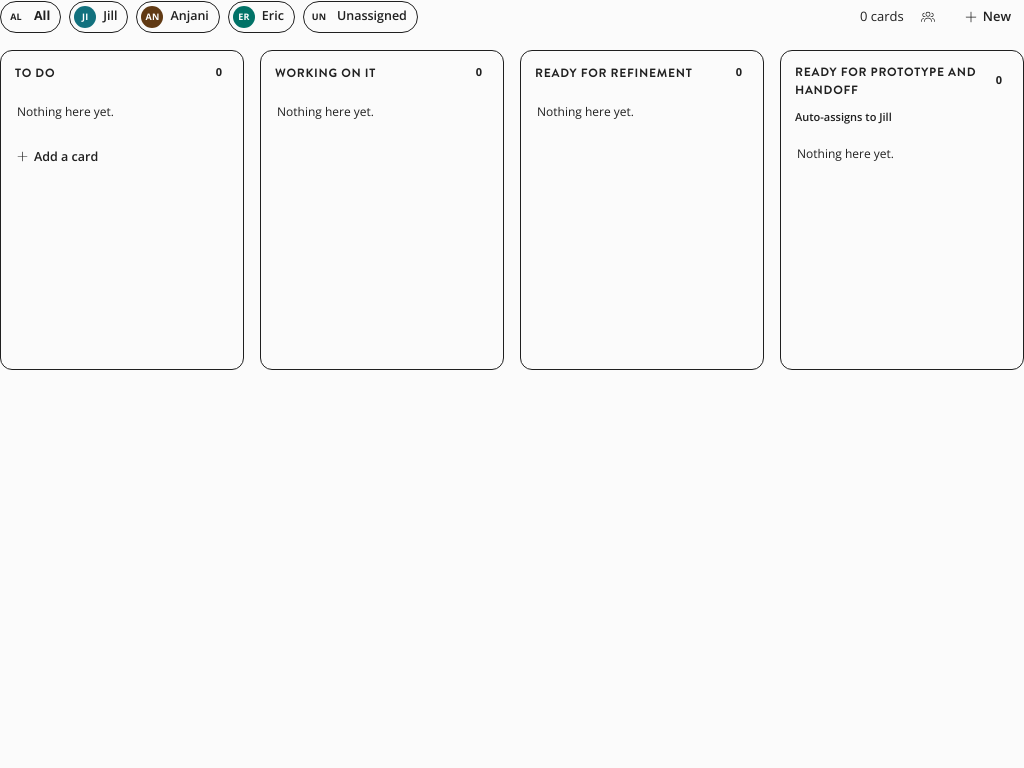
Test case: TodoBoardPanel › swaps the Owner picker for an explanation when the sheet’s column assigns itself
Expected: the element labelled "To Do" is shown, top-left (0, 50), bottom-right (244, 370)
Click the button with aria-label "New card" at (988, 17), box top-left (952, 0), bottom-right (1023, 34)
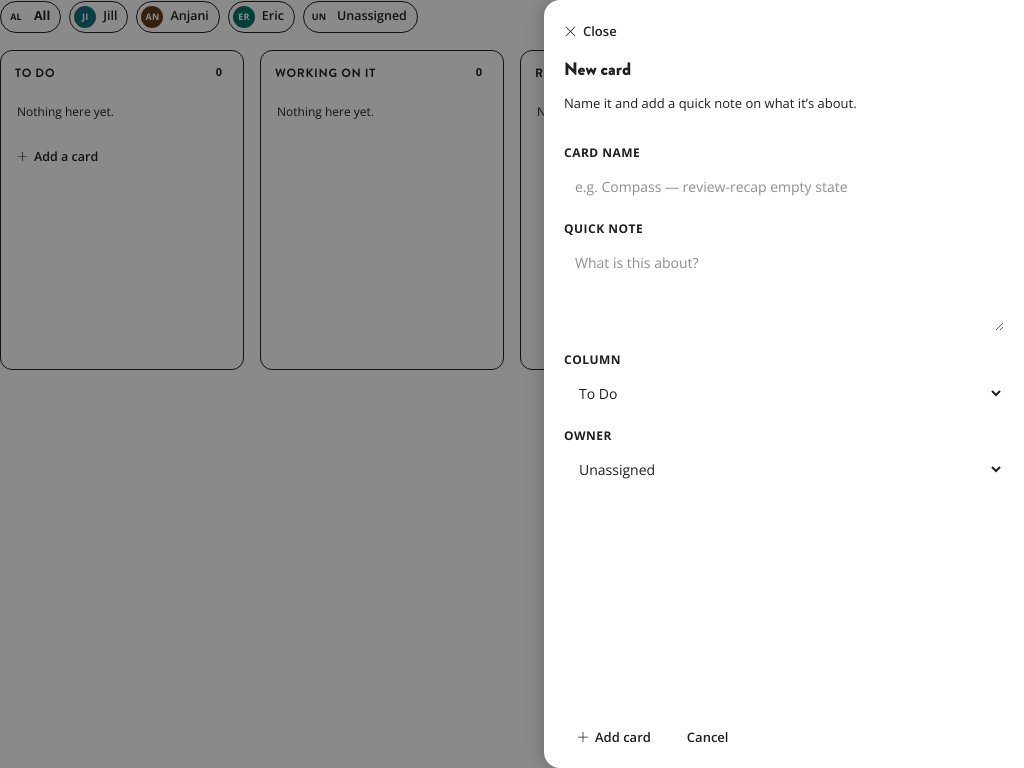
Expected: the dropdown labelled "Owner" is shown, top-left (564, 450), bottom-right (1004, 489)
Select "Ready for Prototype and Handoff" in the dropdown labelled "Column" at (784, 394), box top-left (564, 374), bottom-right (1004, 413)
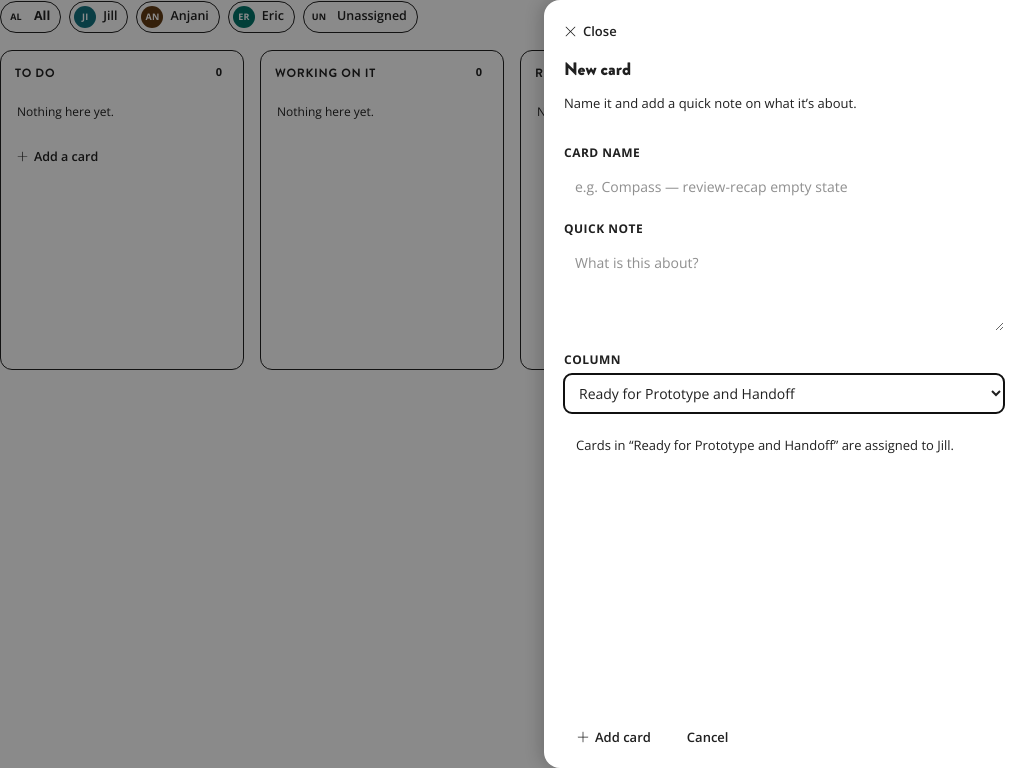
Expected: the label labelled "Owner" is gone
Expected: the text "assigned to Jill" is shown, top-left (576, 436), bottom-right (954, 454)
